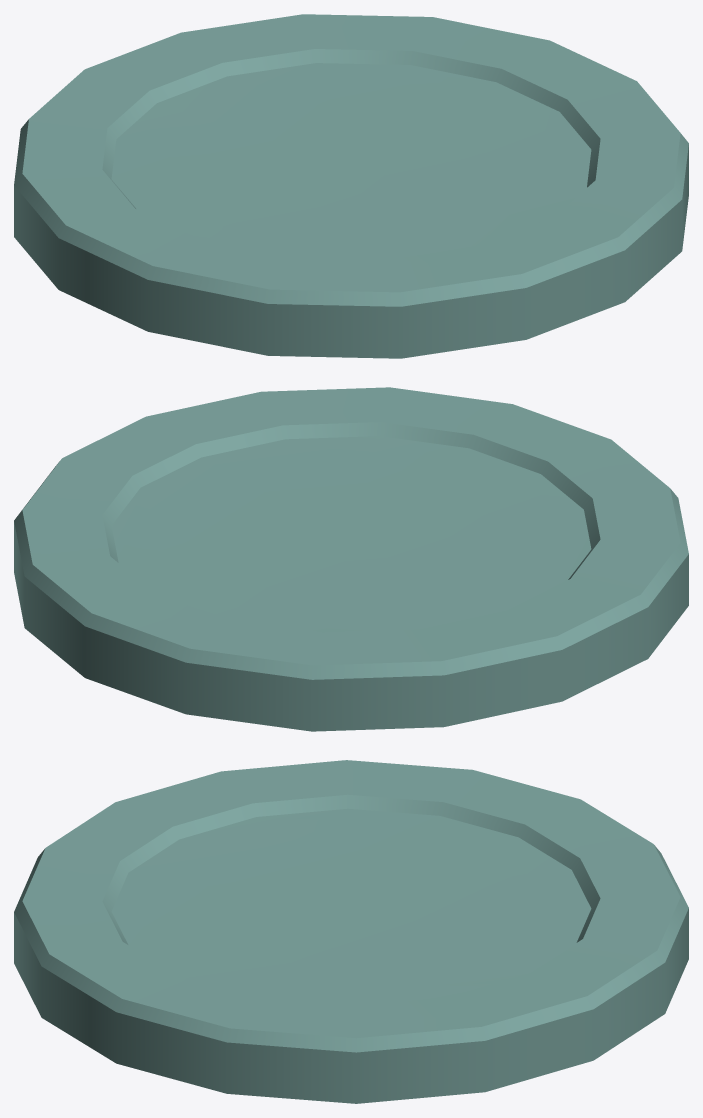
File: floor pad.fbx
3 renders of one model, top to bottom at view 1: azimuth 30°, elevation 25°; view 2: azimuth 150°, elevation 25°; view 3: azimuth 270°, elevation 25°, orthographic.
Visible parts, largest first — view 1: floor pad; view 2: floor pad; view 3: floor pad.
Boxes of the visible parts, bbox=[...] form: floor pad: bbox=[14, 14, 688, 358]; floor pad: bbox=[14, 387, 688, 731]; floor pad: bbox=[14, 760, 688, 1103].
Bounding box in the file's own units: 803 × 81.58 × 803.
